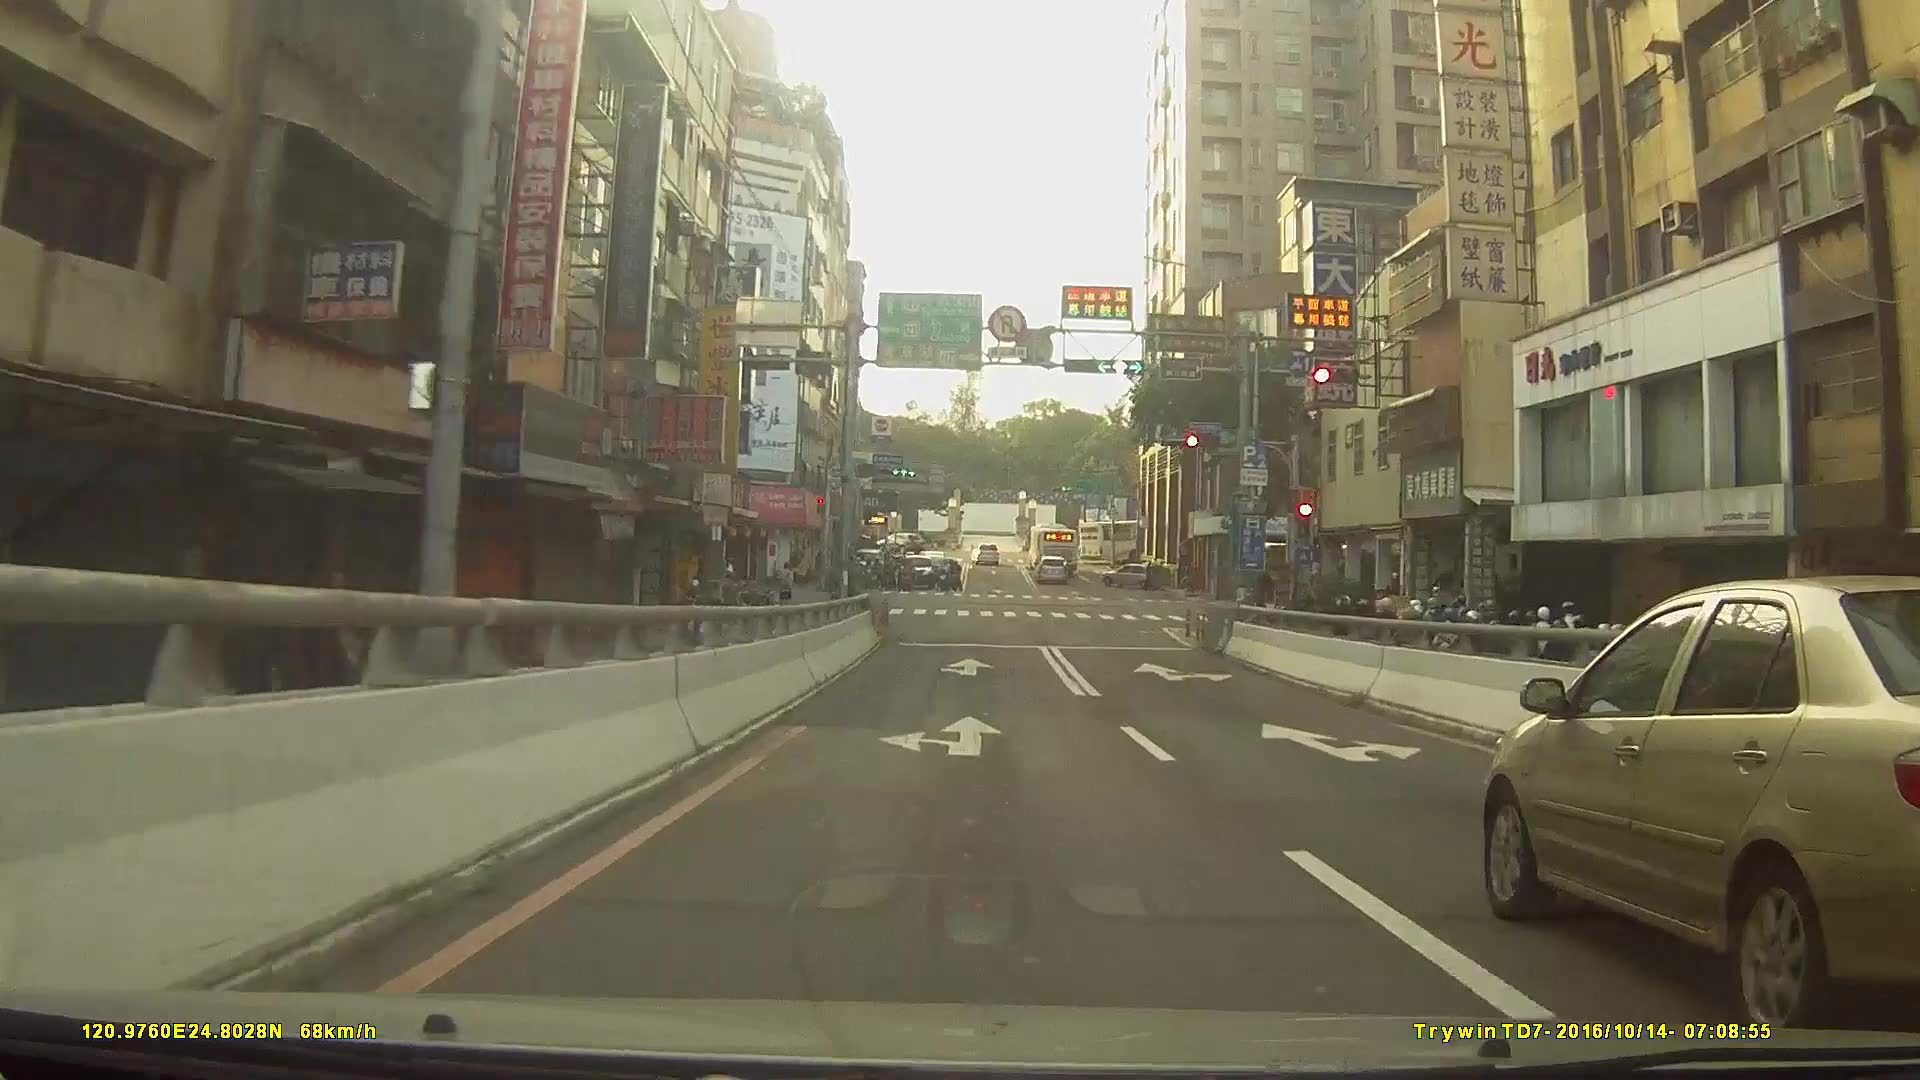rider: (673, 577, 719, 651)
vehicle: (1479, 573, 1920, 1028), (1078, 517, 1166, 564), (1029, 518, 1077, 566), (1098, 559, 1169, 589), (895, 554, 937, 589), (878, 528, 927, 551), (1034, 552, 1070, 581), (970, 539, 1000, 563)
